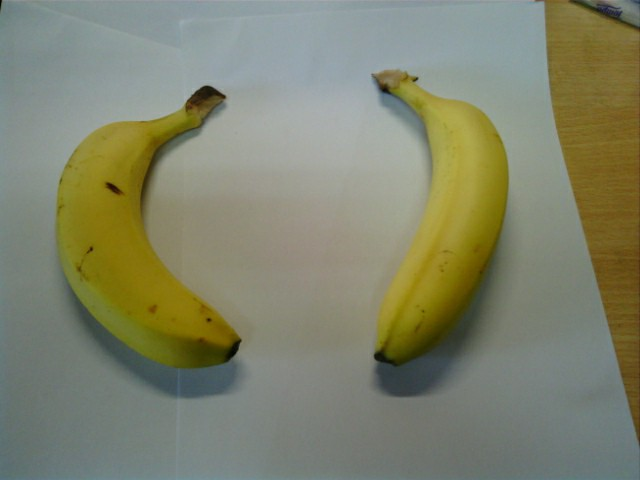fresh_banana: (367, 70, 511, 368)
normal_banana: (50, 90, 241, 371)
